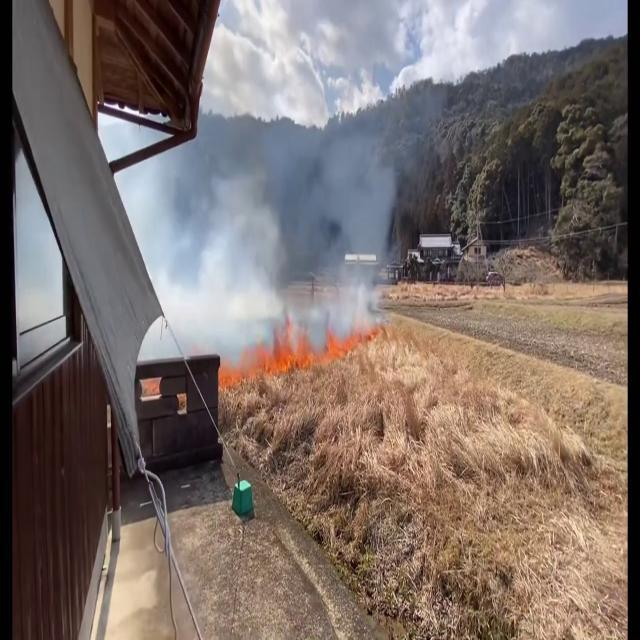Fire: (222, 298, 392, 377)
Smoke: (148, 66, 414, 352)
